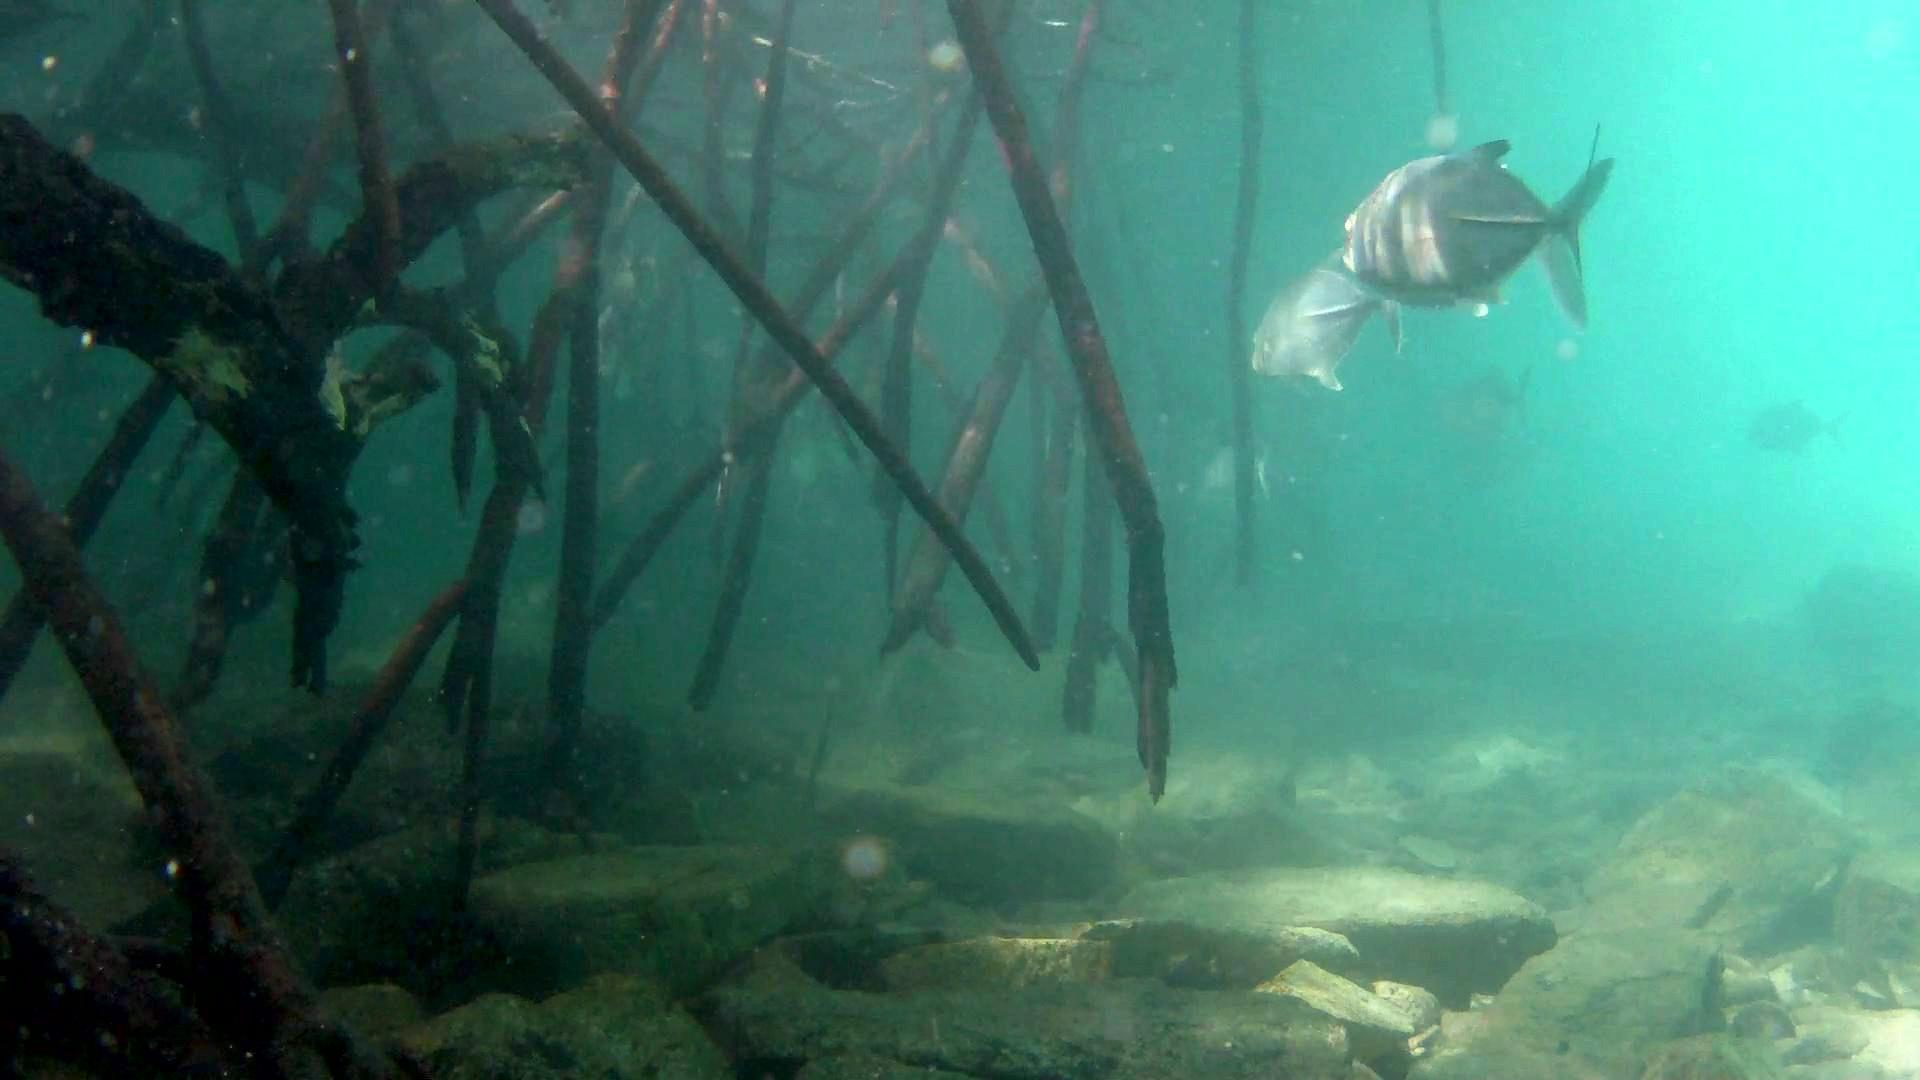caranx: (1323, 118, 1607, 333)
